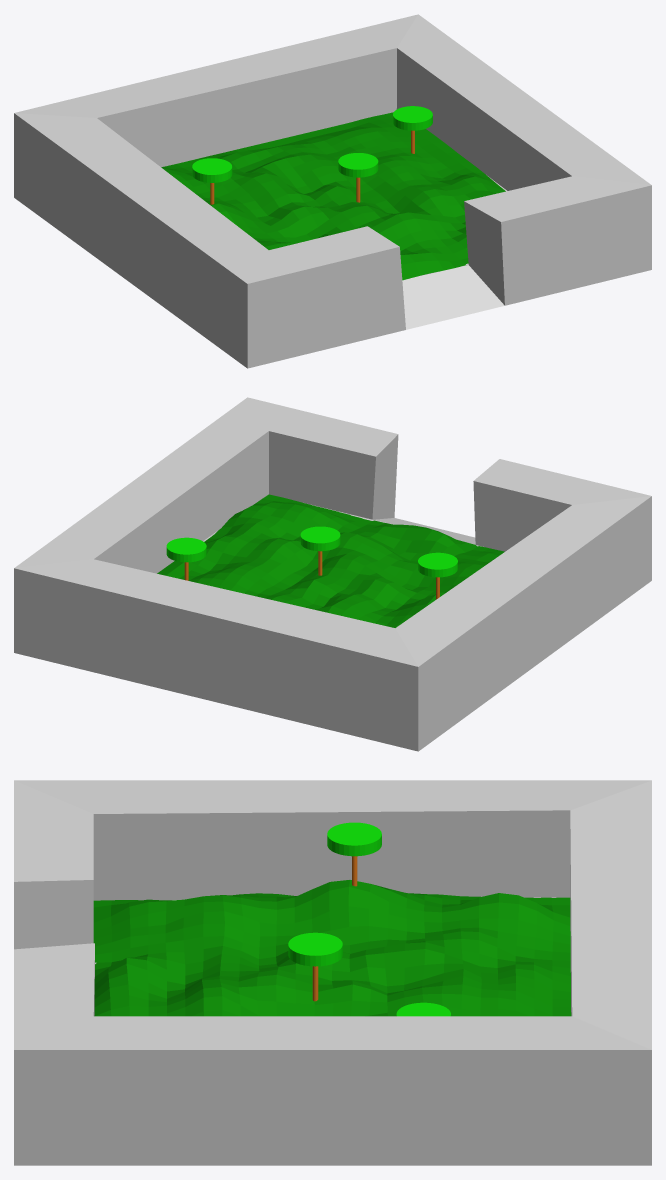
The model's file is simplegarden.glb.
The picture shows the model from 3 angles, top to bottom: view 1: azimuth 30°, elevation 25°; view 2: azimuth 150°, elevation 25°; view 3: azimuth 270°, elevation 25°; orthographic projection. The views are drawn at different scales.
Visible parts, largest first — view 1: garden, tree, tree.002, tree.001; view 2: garden, tree, tree.001, tree.002; view 3: garden, tree, tree.002, tree.001.
Part boxes in pixels (x1,y1,x2,y2): garden: (14, 14, 651, 368); tree: (338, 153, 378, 202); tree.002: (192, 158, 232, 204); tree.001: (393, 106, 432, 153); garden: (14, 397, 651, 751); tree: (300, 526, 340, 575); tree.001: (166, 537, 206, 580); tree.002: (418, 552, 457, 599); garden: (14, 780, 651, 1165); tree: (288, 932, 342, 1001); tree.002: (327, 822, 381, 886); tree.001: (396, 1002, 450, 1016).
Bounding box in the file's own units: 10 × 2.1 × 10.
